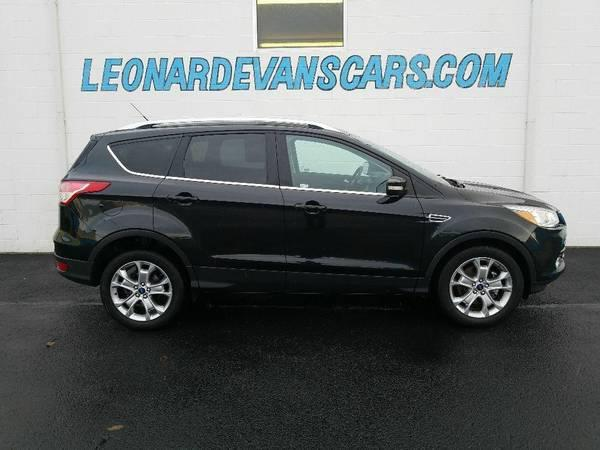Front_Bumper: (518, 224, 566, 292)
Front_Fender: (412, 175, 536, 297)
Front_Right_Door: (279, 188, 424, 297)
Front_Right_Window: (278, 122, 420, 196)
Hood: (455, 181, 557, 209)
Rear_Bumper: (54, 202, 107, 282)
Rear_Fender: (61, 127, 184, 243)
Rear_Right_Door: (152, 174, 287, 296)
Rear_Right_Window: (164, 121, 279, 184)
Right_Headlight: (509, 206, 565, 229)
Right_Taillight: (58, 179, 110, 207)
Wheel: (439, 247, 528, 328), (97, 248, 185, 328)
